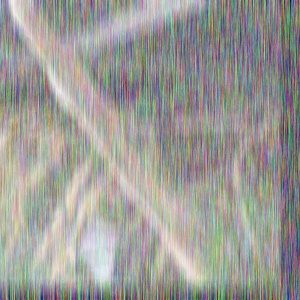Leaf_Blast: (152, 174, 221, 288)
